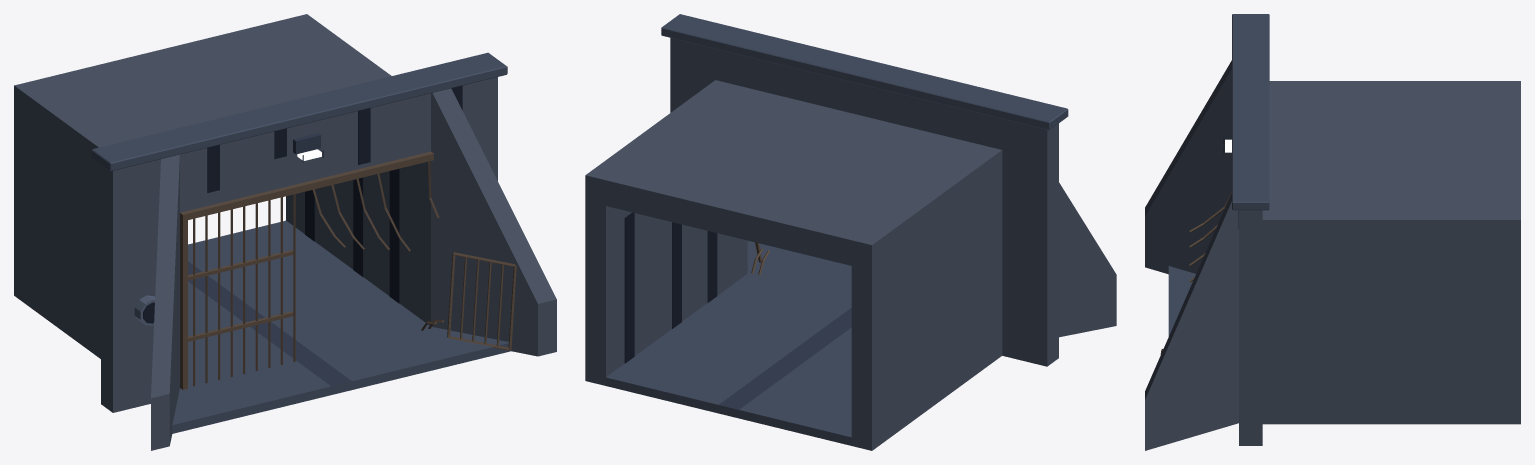
Rendered from hw_storm_culvert.glb.
3 renders of one model, left to right at view 1: azimuth 30°, elevation 25°; view 2: azimuth 150°, elevation 25°; view 3: azimuth 270°, elevation 25°, orthographic. The views are drawn at different scales.
Visible parts, largest first — view 1: culvert, walk_slab, apron, grate, stain; view 2: culvert, walk_slab, apron, stain; view 3: culvert, apron, walk_slab.
Boxes of the visible parts, left/top/right/bottom form: culvert: left=14, top=14, right=556, bottom=450; walk_slab: left=183, top=220, right=467, bottom=422; apron: left=91, top=52, right=511, bottom=433; grate: left=180, top=151, right=516, bottom=389; stain: left=143, top=85, right=462, bottom=323; culvert: left=585, top=38, right=1116, bottom=450; walk_slab: left=606, top=249, right=851, bottom=445; apron: left=661, top=14, right=1068, bottom=273; stain: left=624, top=212, right=717, bottom=363; culvert: left=1145, top=60, right=1520, bottom=450; apron: left=1168, top=14, right=1269, bottom=286; walk_slab: left=1168, top=286, right=1190, bottom=336.
Size of the model in its own units: 9.7 by 5.8 by 8.
